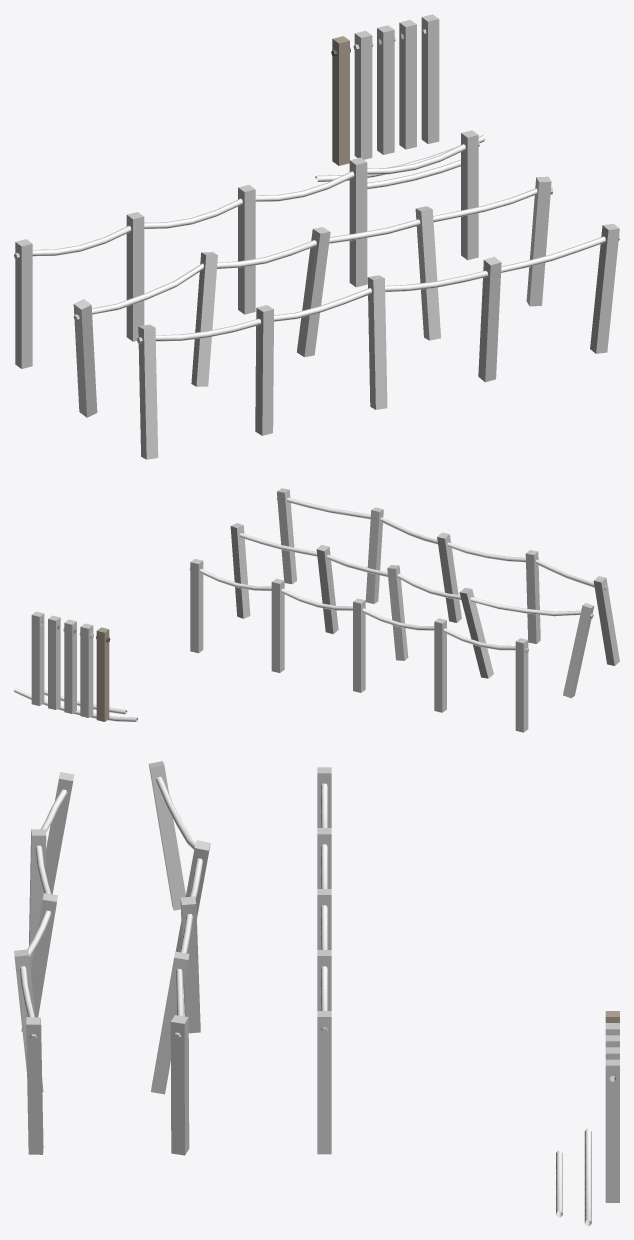
File: rope_fence.glb
The picture shows the model from 3 angles, top to bottom: view 1: azimuth 30°, elevation 25°; view 2: azimuth 150°, elevation 25°; view 3: azimuth 270°, elevation 25°; orthographic projection. The views are drawn at different scales.
Visible parts, largest first — view 1: RopeFence3, RopeFence1, RopeFence2, PoleHole, Post2Peg, BasePost, Post1Peg.001, Post0Peg, RopeCurved.001; view 2: RopeFence1, RopeFence2, RopeFence3, Post2Peg, PoleHole, BasePost, Post1Peg.001, Post0Peg, RopeCurved; view 3: RopeFence2, RopeFence3, RopeFence1, PoleHole, RopeCurved.
Part boxes in pixels (x1,y1,x2,y2): RopeFence3: [137, 223, 619, 459]; RopeFence1: [14, 130, 479, 368]; RopeFence2: [73, 176, 552, 417]; PoleHole: [421, 14, 439, 143]; Post2Peg: [353, 30, 373, 159]; BasePost: [331, 36, 350, 165]; Post1Peg.001: [377, 25, 395, 154]; Post0Peg: [399, 19, 416, 149]; RopeCurved.001: [367, 159, 460, 189]; RopeFence1: [189, 558, 528, 732]; RopeFence2: [230, 523, 594, 698]; RopeFence3: [277, 488, 619, 665]; Post2Peg: [79, 623, 93, 717]; PoleHole: [31, 611, 44, 705]; BasePost: [96, 627, 110, 721]; Post1Peg.001: [63, 619, 76, 713]; Post0Peg: [48, 615, 60, 709]; RopeCurved: [14, 688, 137, 721]; RopeFence2: [148, 761, 210, 1155]; RopeFence3: [14, 772, 74, 1154]; RopeFence1: [317, 767, 331, 1154]; PoleHole: [605, 1059, 619, 1202]; RopeCurved: [584, 1128, 591, 1225].
Size of the model in its own units: 5.39 by 1.16 by 4.2.
